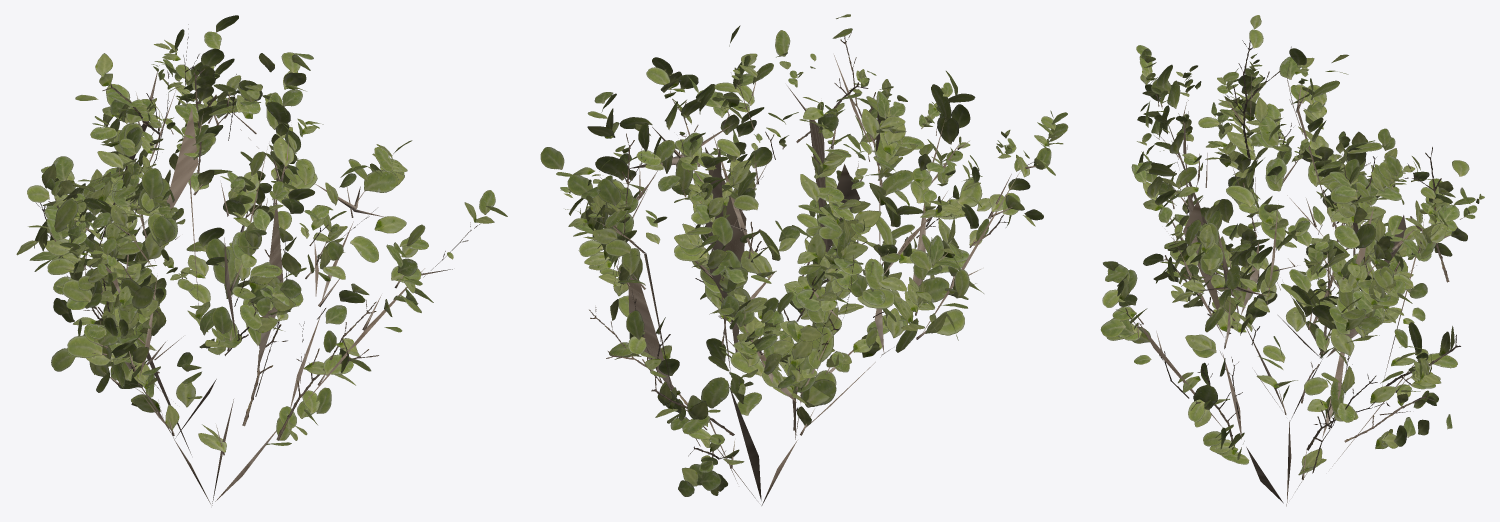
The model's file is searsia_lucida_c_LOD0.glb.
3 views of the same model, side by side, from view 1: azimuth 30°, elevation 25°; view 2: azimuth 150°, elevation 25°; view 3: azimuth 270°, elevation 25° (orthographic). The views are drawn at different scales.
Visible parts, largest first — view 1: searsia_lucida_c_LOD0; view 2: searsia_lucida_c_LOD0; view 3: searsia_lucida_c_LOD0.
Part boxes in pixels (left/top/right/bottom): searsia_lucida_c_LOD0: left=16, top=15, right=507, bottom=505; searsia_lucida_c_LOD0: left=540, top=14, right=1068, bottom=505; searsia_lucida_c_LOD0: left=1100, top=15, right=1484, bottom=506.
Bounding box in the file's own units: 1.5 × 1.64 × 1.25.
Materials: 3 (3 with a texture image).
